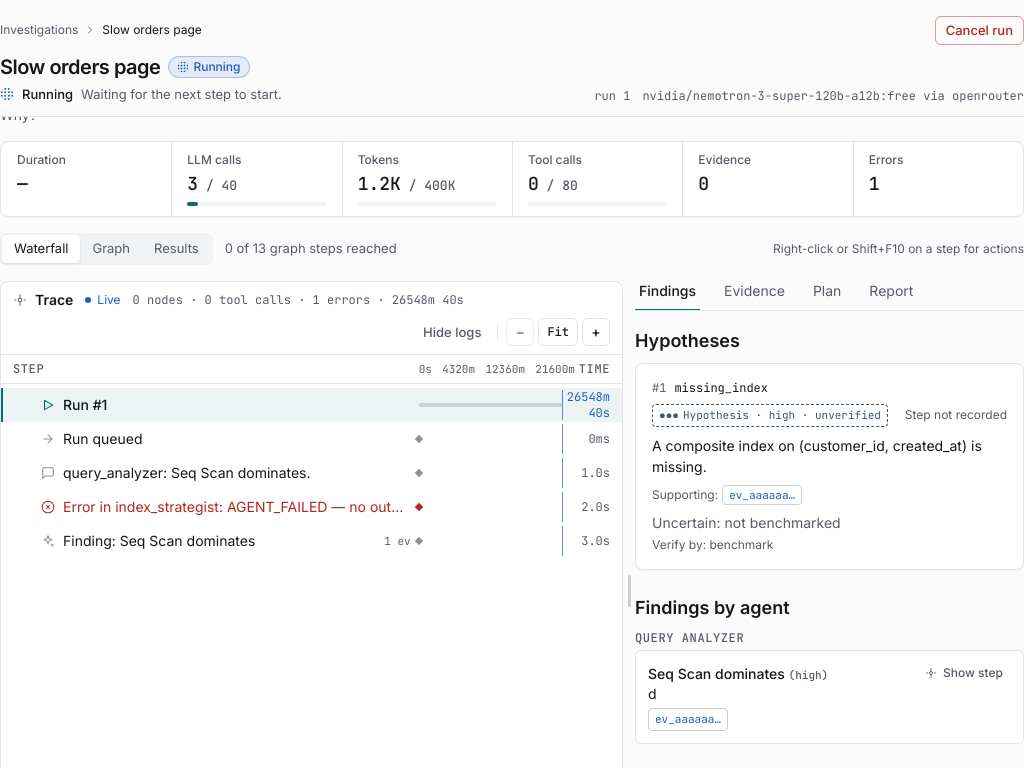
Test case: a plan node lists the findings and hypotheses whose evidence cites it
Click the button with aria-label "Evidence ev_aaaaaaaaaaaa" at (762, 495), box [722,485,802,505]
(page scrolled)
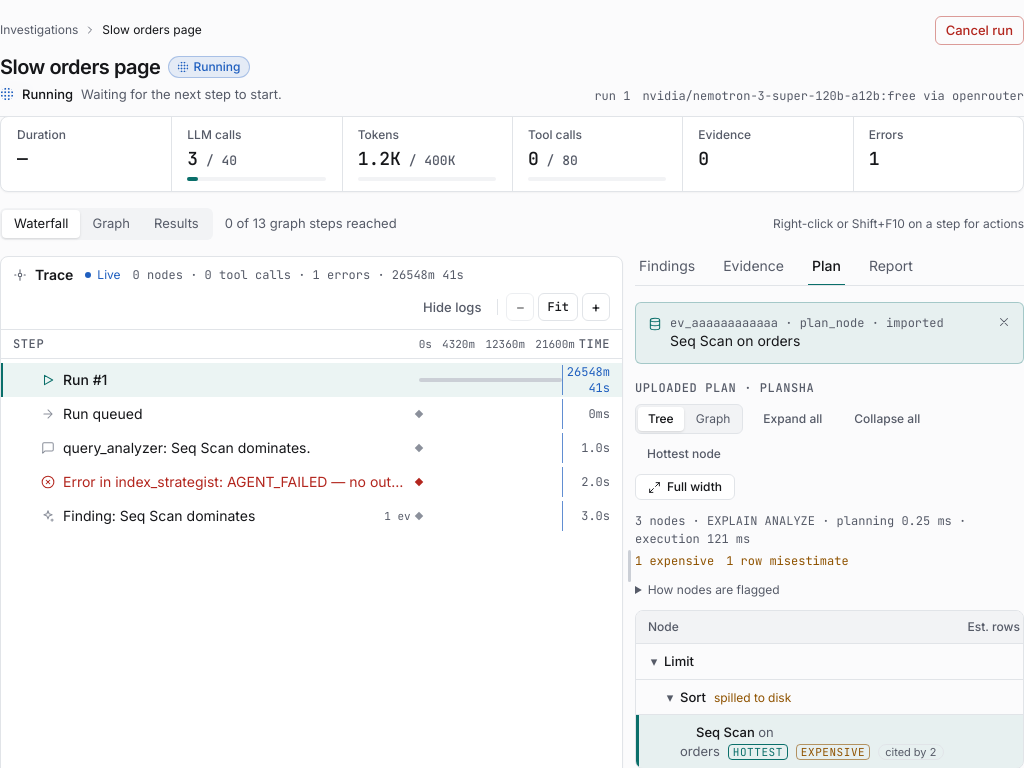
Result: the text "cited by 2" is shown at [878,744,944,760]
